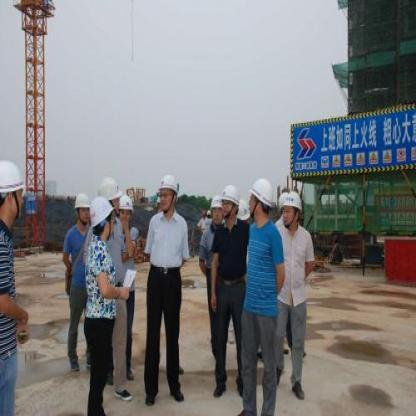helmet: (1, 150, 26, 228), (246, 175, 277, 226), (158, 170, 182, 214), (91, 195, 113, 241), (279, 190, 303, 230), (219, 182, 240, 224), (101, 174, 122, 215), (72, 190, 92, 231), (117, 193, 135, 228), (210, 195, 226, 226)
